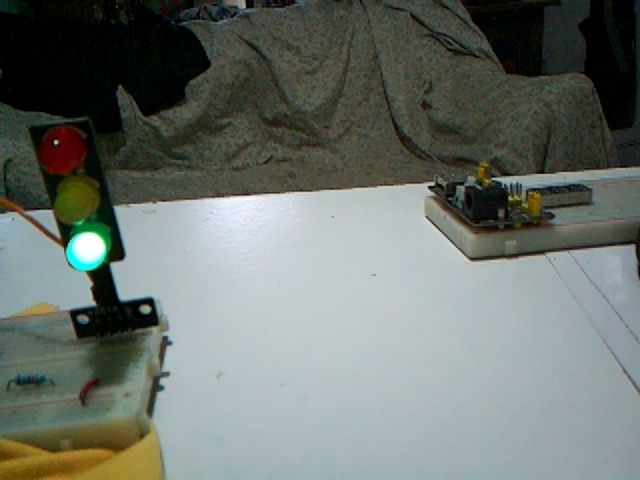traffic_light_green: (29, 118, 125, 272)
